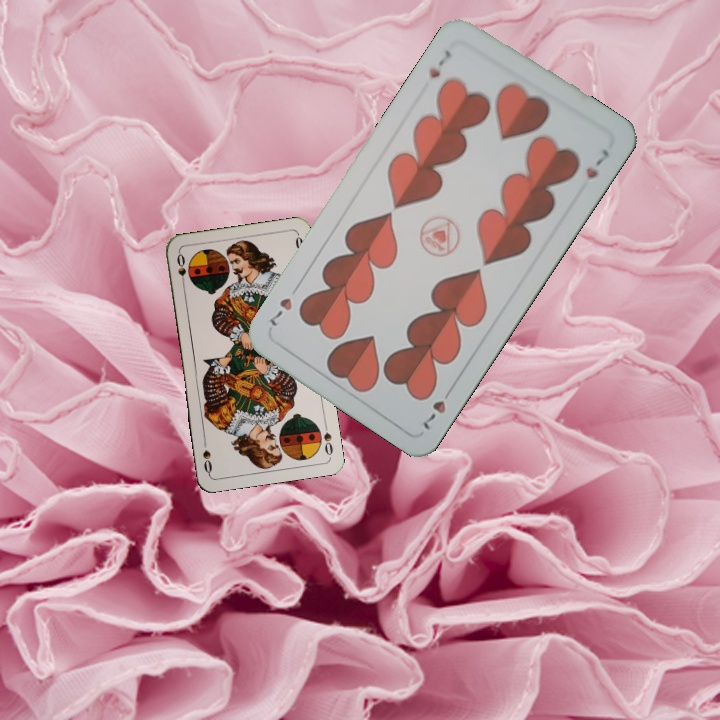H7: (418, 381, 455, 433), (425, 45, 455, 81)
SO: (173, 249, 189, 290), (319, 418, 335, 458)
